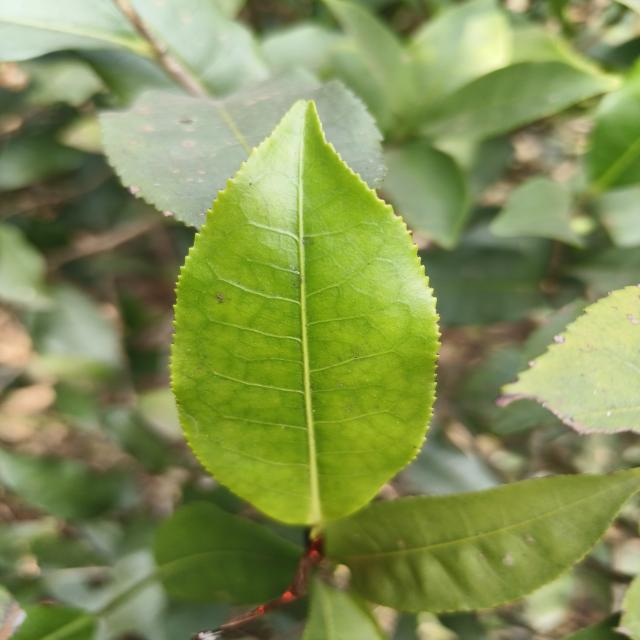Leaf: (171, 102, 439, 526), (325, 469, 640, 613), (100, 71, 385, 228), (498, 286, 640, 433), (153, 501, 302, 605), (425, 62, 614, 139), (409, 0, 513, 107), (421, 247, 546, 326), (382, 139, 470, 249), (0, 0, 149, 62), (0, 450, 115, 519), (587, 72, 640, 191), (491, 177, 581, 245), (0, 132, 86, 190), (0, 222, 52, 310)
